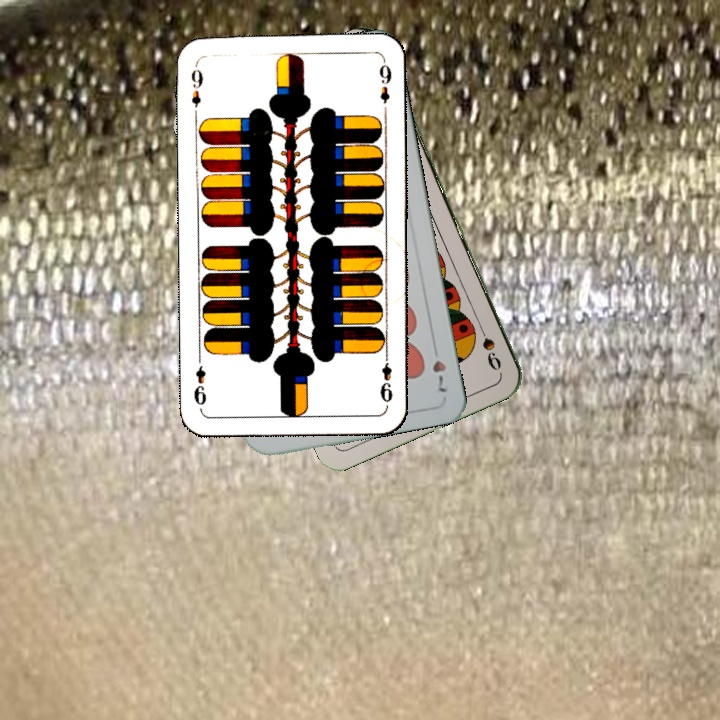E9: (376, 349, 395, 408), (187, 61, 206, 120)
H7: (428, 339, 450, 395)
S9: (473, 317, 504, 374)
